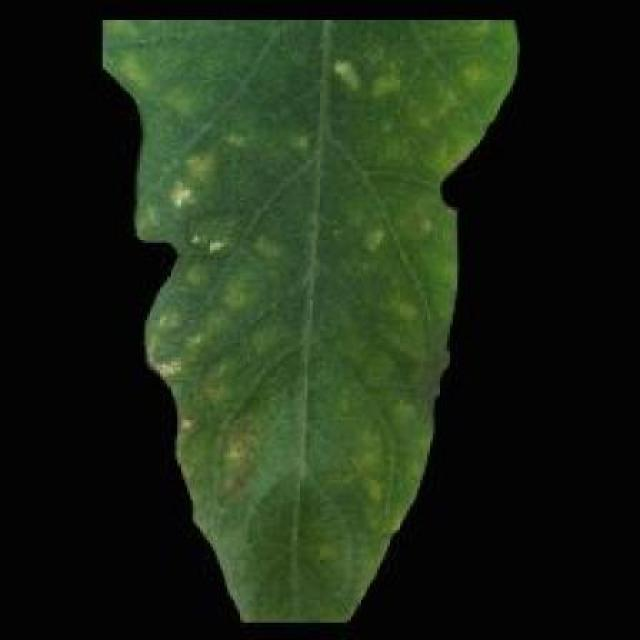Late Blight: (101, 20, 520, 623)
